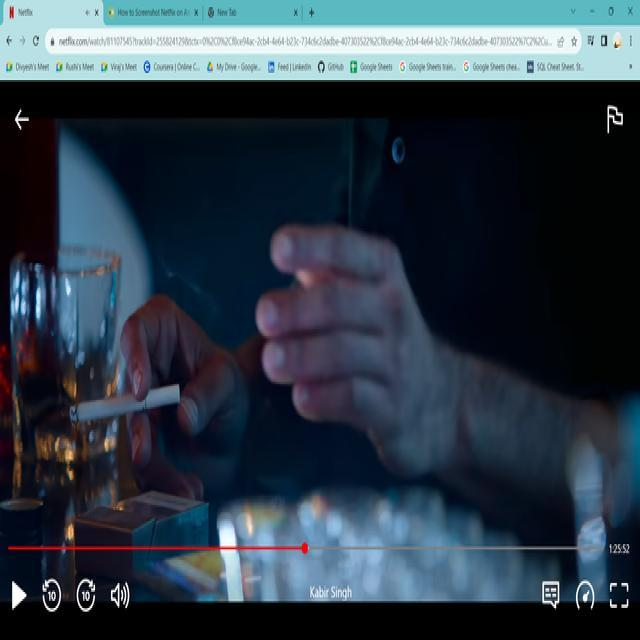smoking: (70, 377, 184, 423)
